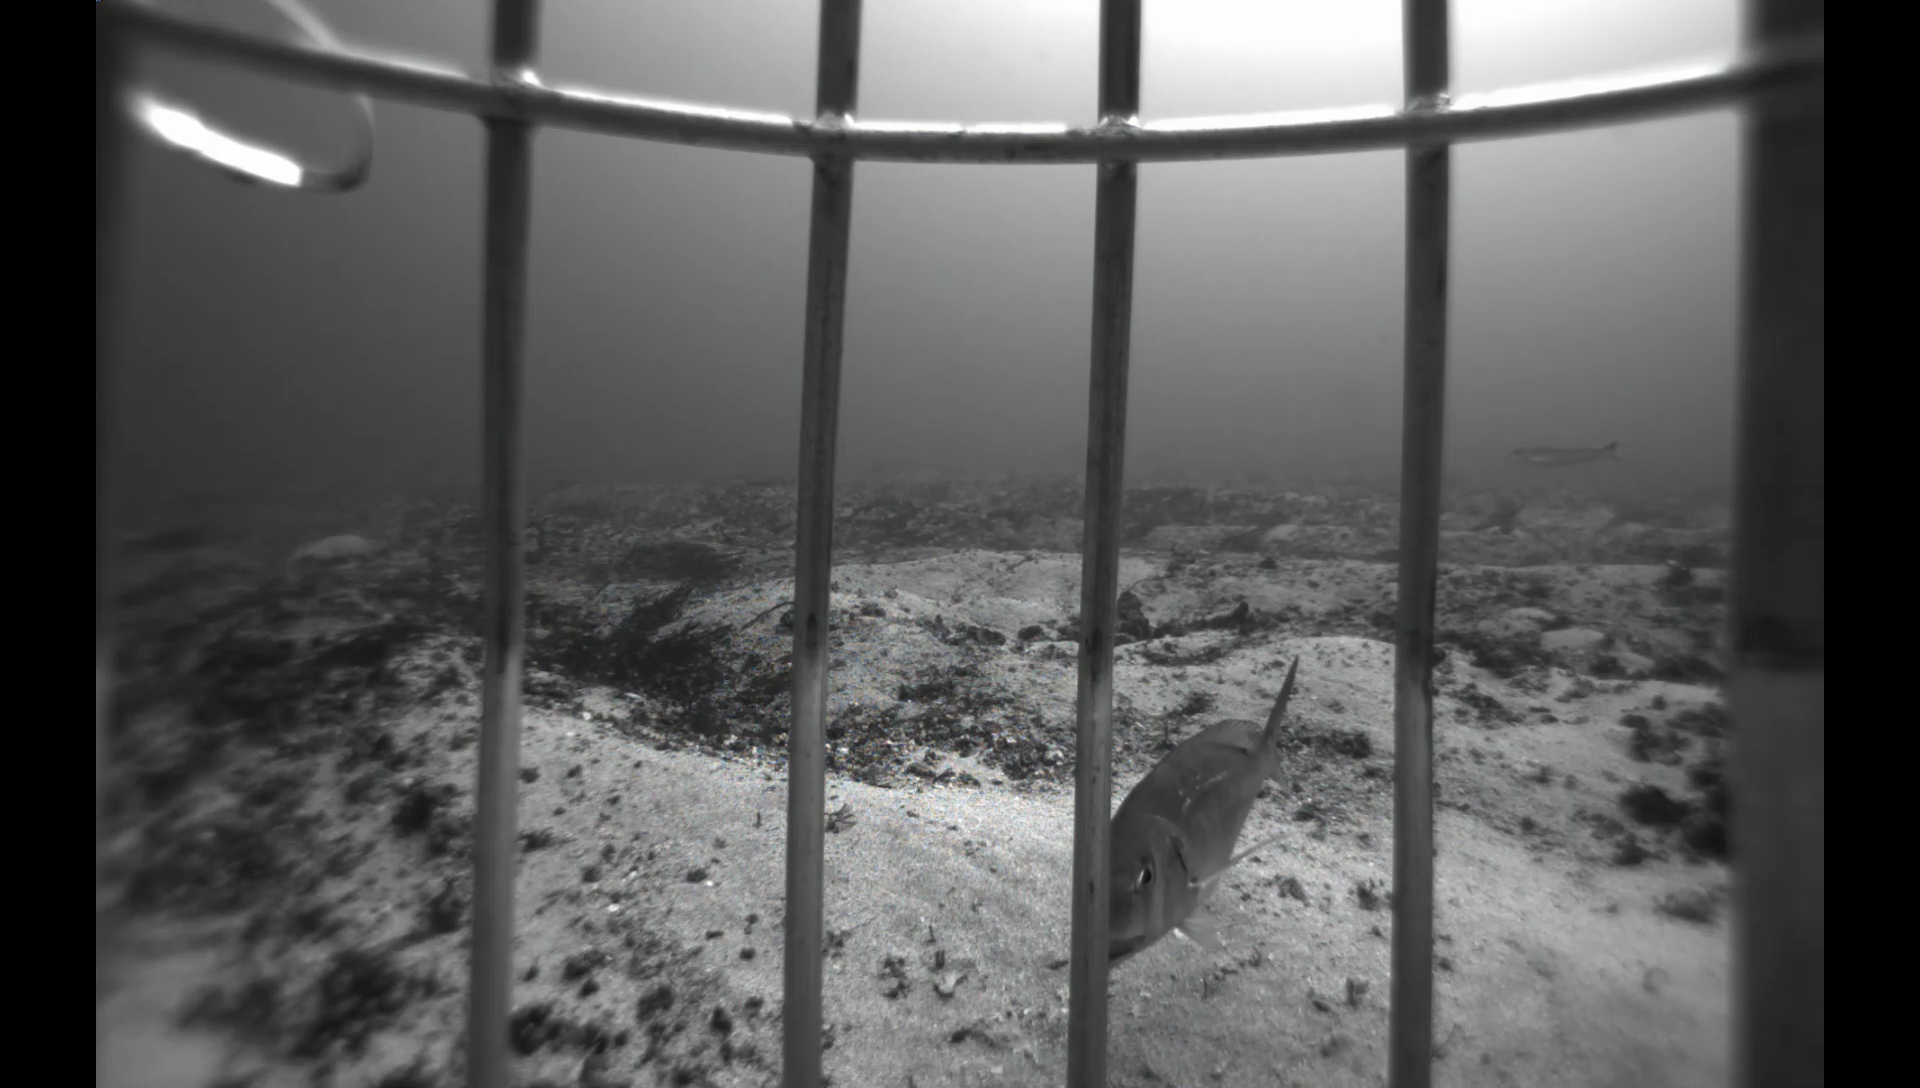MALACANTHUSPLUMIERI-170070301: (1499, 439, 1627, 469)
PAGRUSPAGRUS-170212302: (1106, 657, 1311, 976)
